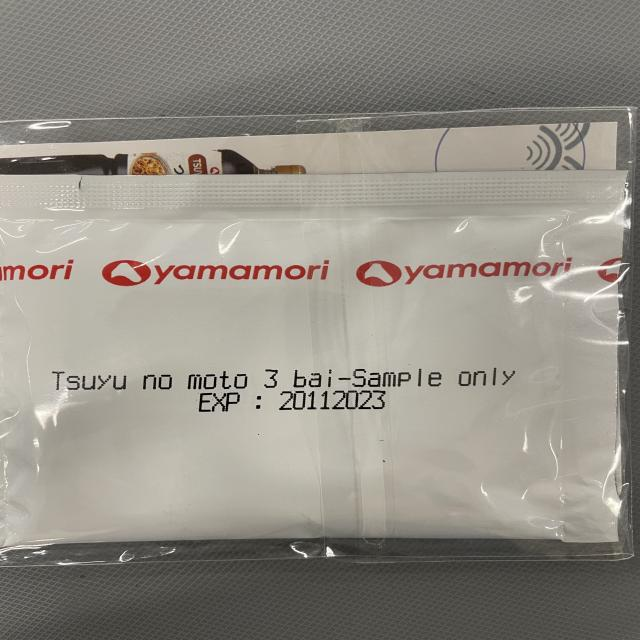object_name: (0, 126, 626, 544)
